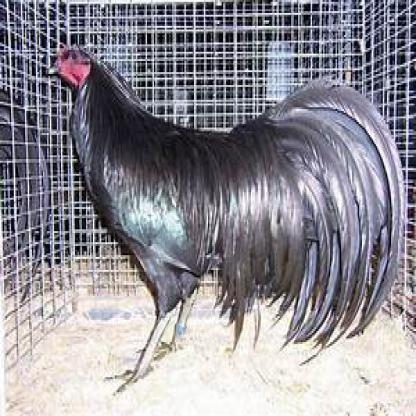chicken: (46, 43, 406, 401)
